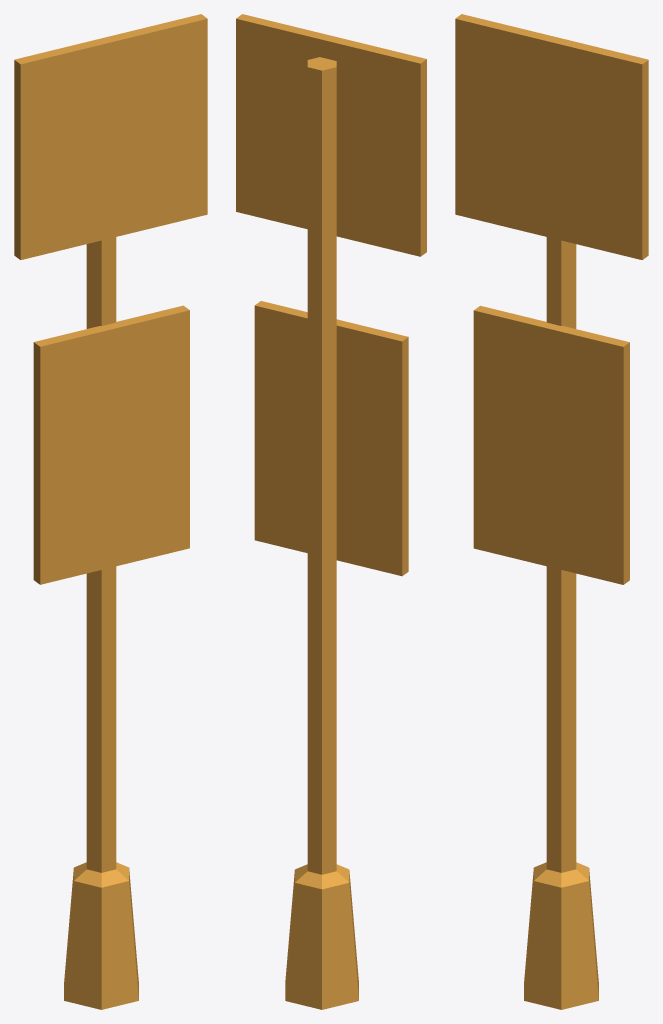
File: bus-stop-sign.glb
3 views of the same model, side by side, from view 1: azimuth 30°, elevation 25°; view 2: azimuth 150°, elevation 25°; view 3: azimuth 330°, elevation 25° (orthographic).
Parts seen in each view (by area): view 1: bus-stop-sign; view 2: bus-stop-sign; view 3: bus-stop-sign.
Boxes of the visible parts, bbox=[...] form: bus-stop-sign: bbox=[14, 14, 207, 1009]; bus-stop-sign: bbox=[236, 14, 426, 1009]; bus-stop-sign: bbox=[455, 14, 648, 1009].
Bounding box in the file's own units: 0.5001 × 2.45 × 0.1732.
